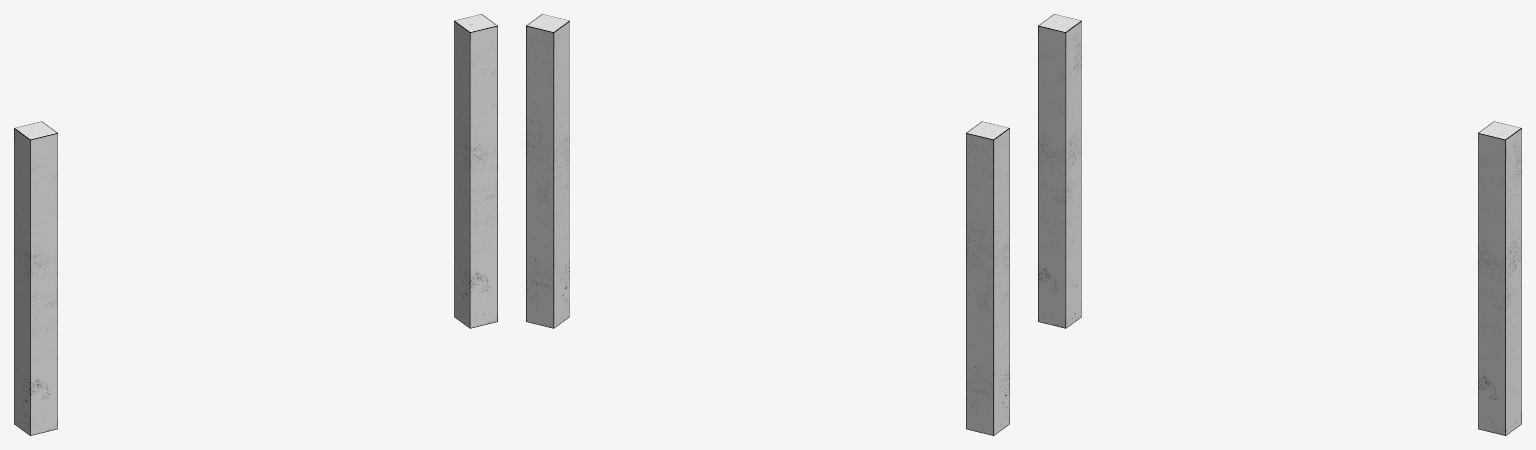
File: Pole.fbx
3 renders of one model, left to right at view 1: azimuth 30°, elevation 25°; view 2: azimuth 150°, elevation 25°; view 3: azimuth 330°, elevation 25°, orthographic.
Parts seen in each view (by area): view 1: Cube; view 2: Cube; view 3: Cube.
Boxes of the visible parts, x1,y1,x2,y2 form: Cube: [14, 14, 497, 435]; Cube: [526, 14, 1009, 435]; Cube: [1038, 14, 1521, 435].
Bounding box in the file's own units: 3105 × 1879 × 185.
Materials: 1 (1 with a texture image).
